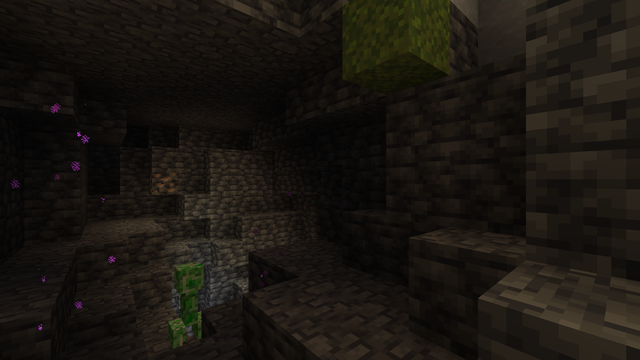creepers: (171, 257, 205, 344)
